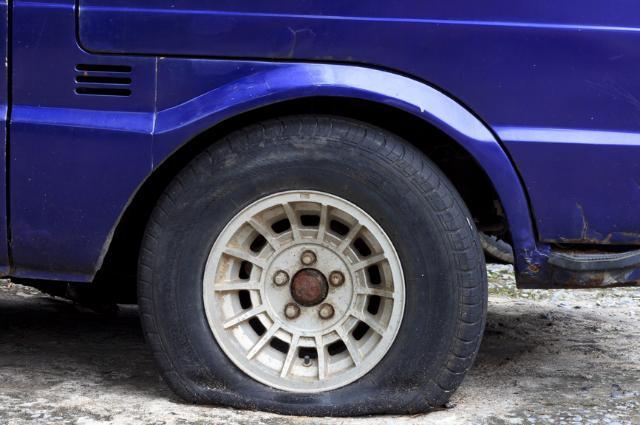Bumper: (486, 136, 640, 294)
Fender: (110, 35, 443, 137)
